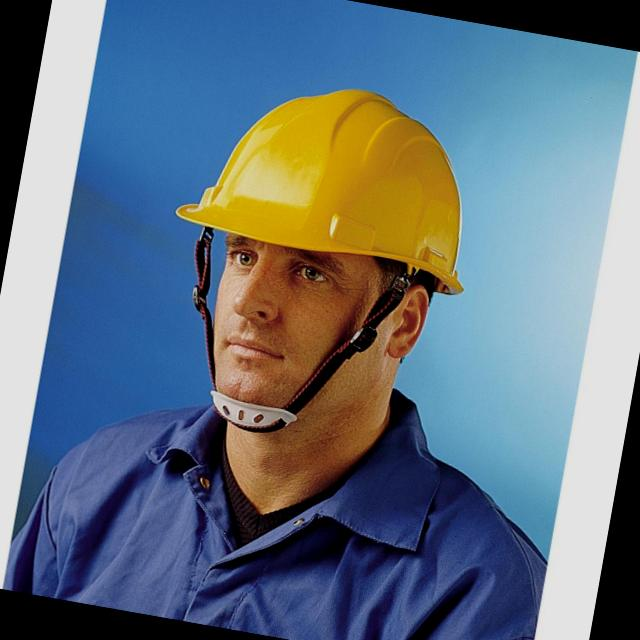helmet: (163, 58, 504, 296)
no-vest: (9, 383, 530, 640)
